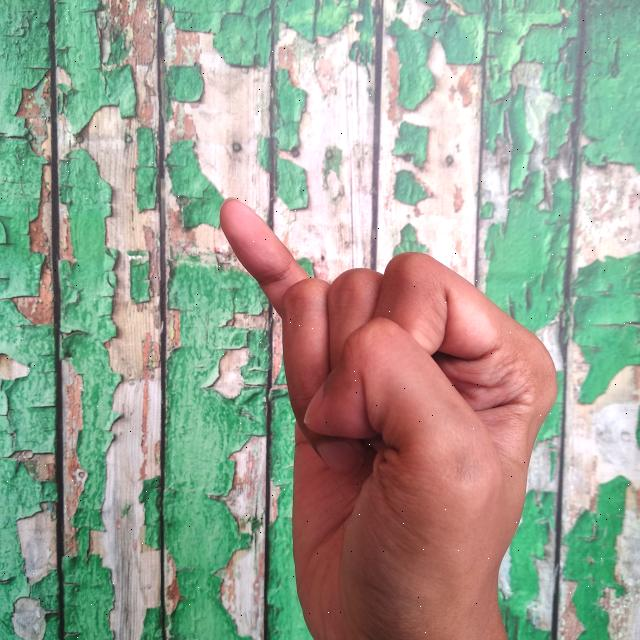I: (211, 193, 561, 640)
